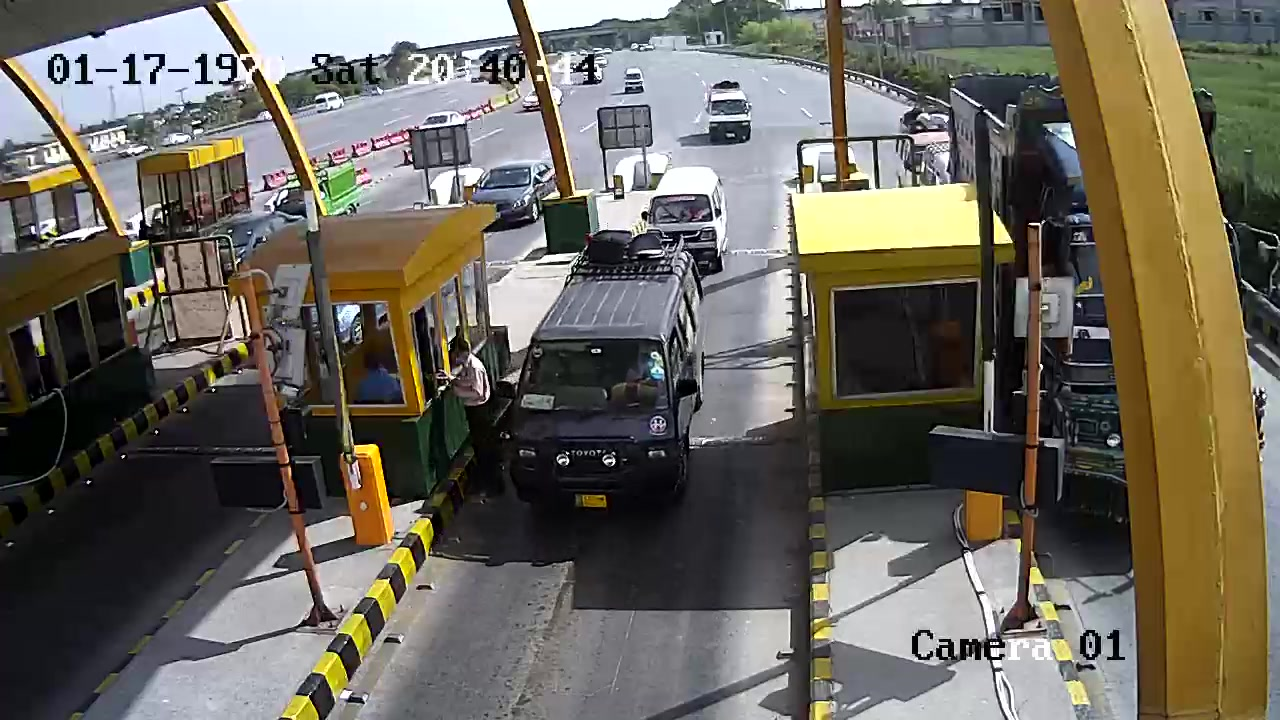F2: (504, 226, 724, 539)
